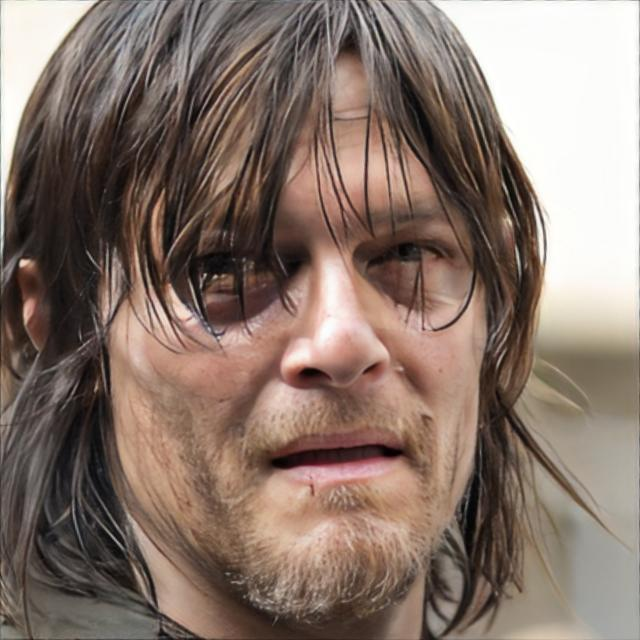sad: (89, 50, 486, 621)
